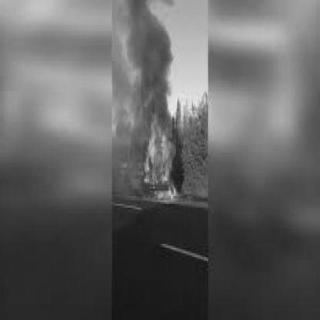Fire: (141, 103, 175, 201)
Smoke: (116, 0, 174, 124)
